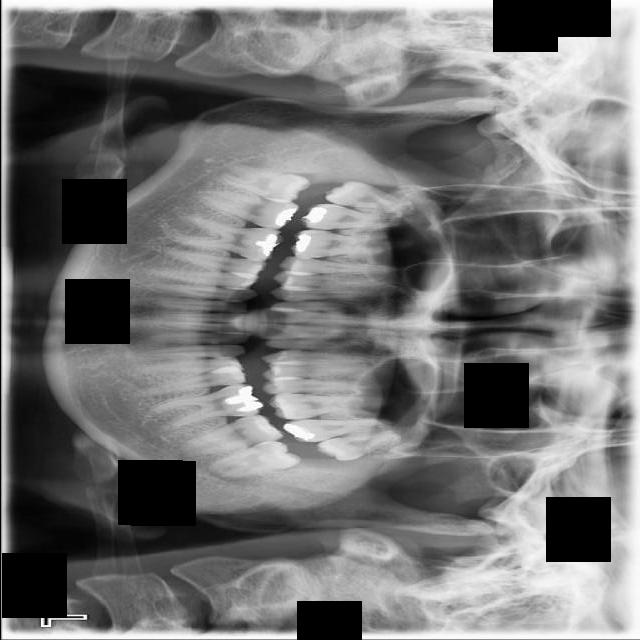3M ESPE Implant: (323, 177, 419, 218)
52: (227, 400, 285, 459), (210, 374, 267, 428), (232, 216, 287, 271), (247, 185, 301, 241), (299, 202, 348, 231), (289, 229, 333, 259), (281, 419, 334, 442), (224, 258, 266, 279)
73: (64, 610, 74, 614)
BioHorizons Implant: (282, 418, 393, 443)
BioLife Implant: (314, 428, 408, 465)
Biomet 3i Implant: (206, 434, 302, 487)
Blue Sky Bio Implant: (174, 408, 286, 462)
Caries: (300, 203, 420, 230)
Implant: (189, 183, 300, 234)
Keystone Dental Implant: (215, 160, 312, 208)
